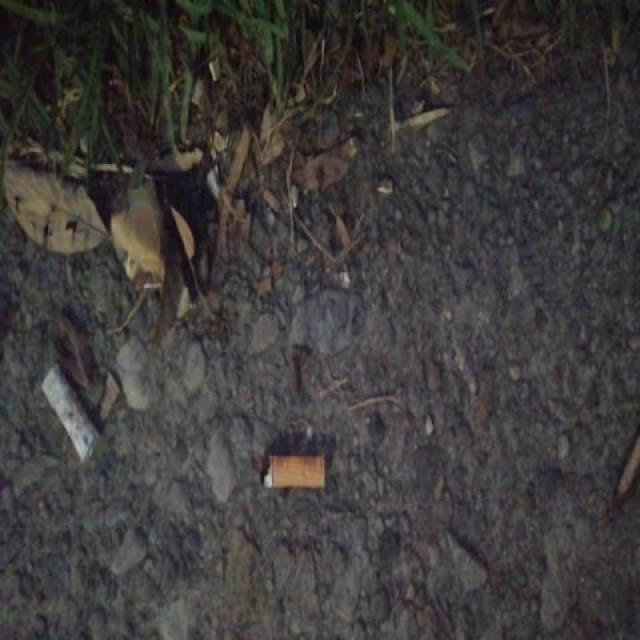non-organic waste: (37, 357, 107, 468), (256, 450, 331, 495)
